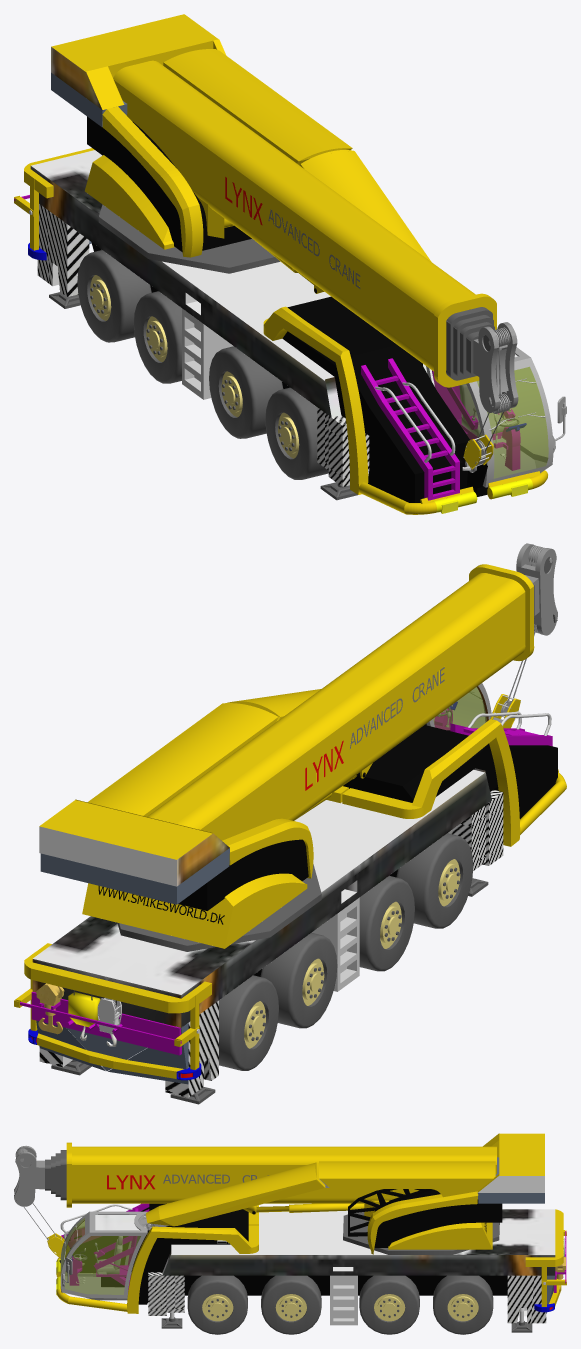
File: crane-truck-50t.glb
The picture shows the model from 3 angles, top to bottom: view 1: azimuth 30°, elevation 25°; view 2: azimuth 150°, elevation 25°; view 3: azimuth 270°, elevation 25°; orthographic projection. The views are drawn at different scales.
Parts seen in each view (by area): view 1: Geom3D_11, Geom3D_23, Geom3D_25, Geom3D_47, Geom3D_40, Geom3D_52, Geom3D_43, Geom3D_20, Geom3D_54, Geom3D_27, Geom3D_35, Geom3D_33 (+16 smaller); view 2: Geom3D_11, Geom3D_23, Geom3D_47, Geom3D_25, Geom3D_32, Geom3D_40, Geom3D_43, Geom3D_81, Geom3D_52, Geom3D_51, Geom3D_20, Geom3D_33 (+13 smaller); view 3: Geom3D_11, Geom3D_23, Geom3D_25, Geom3D_47, Geom3D_54, Geom3D_43, Geom3D_20, Geom3D_40, Geom3D_33, Geom3D_36, Geom3D_48, Geom3D_32 (+20 smaller).
Boxes of the visible parts, x1,y1,x2,y2 form: Geom3D_11: (113,60,496,387); Geom3D_23: (30,150,427,417); Geom3D_25: (102,49,431,293); Geom3D_47: (77,250,328,479); Geom3D_40: (282,296,487,502); Geom3D_52: (51,14,226,109); Geom3D_43: (263,306,547,514); Geom3D_20: (37,204,369,486); Geom3D_54: (477,366,548,478); Geom3D_27: (361,358,459,500); Geom3D_35: (98,204,280,273); Geom3D_33: (87,116,251,252); Geom3D_11: (143,564,534,840); Geom3D_23: (32,768,491,1027); Geom3D_47: (219,833,473,1070); Geom3D_25: (88,689,372,878); Geom3D_32: (82,873,307,948); Geom3D_40: (343,723,557,818); Geom3D_43: (326,719,566,846); Geom3D_81: (14,943,211,1078); Geom3D_52: (39,799,212,859); Geom3D_51: (39,826,229,886); Geom3D_20: (39,790,503,1097); Geom3D_33: (98,839,308,924); Geom3D_11: (66,1142,496,1207); Geom3D_23: (162,1209,555,1275); Geom3D_25: (146,1161,495,1254); Geom3D_47: (187,1275,493,1334); Geom3D_54: (60,1218,140,1294); Geom3D_43: (56,1203,258,1313); Geom3D_20: (148,1272,546,1323); Geom3D_40: (59,1203,248,1286); Geom3D_33: (374,1190,502,1247); Geom3D_36: (60,1211,147,1298); Geom3D_48: (202,1294,478,1321); Geom3D_32: (388,1222,492,1249).
Bounding box in the file's own units: 3.16 × 4.29 × 13.36.
27 materials, 4 textured.
